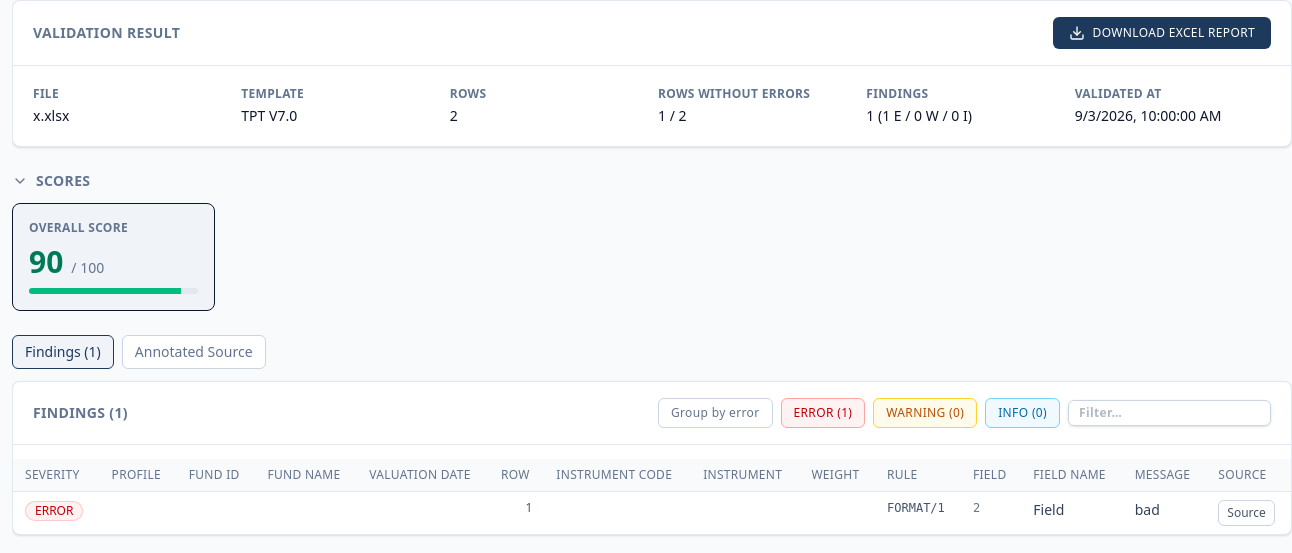
Test: ResultPanel › "Source" switches to the annotated tab and highlights the cell
Click the button "Source" at (1247, 513), box [1218,500,1275,526]
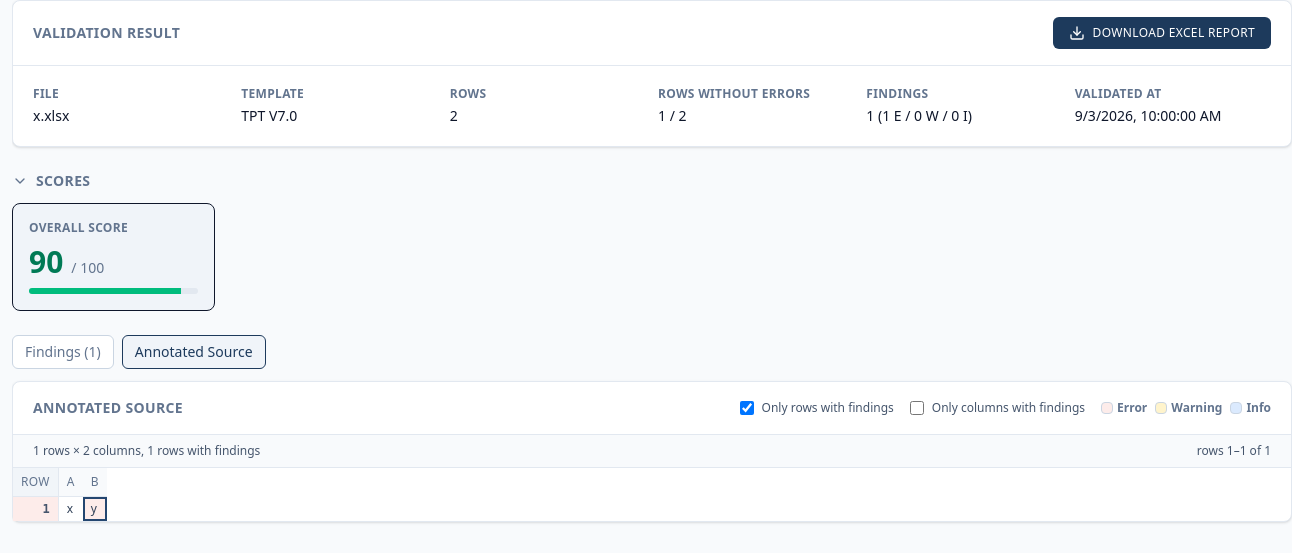
Now the table with test id "annotated-source-grid" is shown, box [13,468,107,521]
